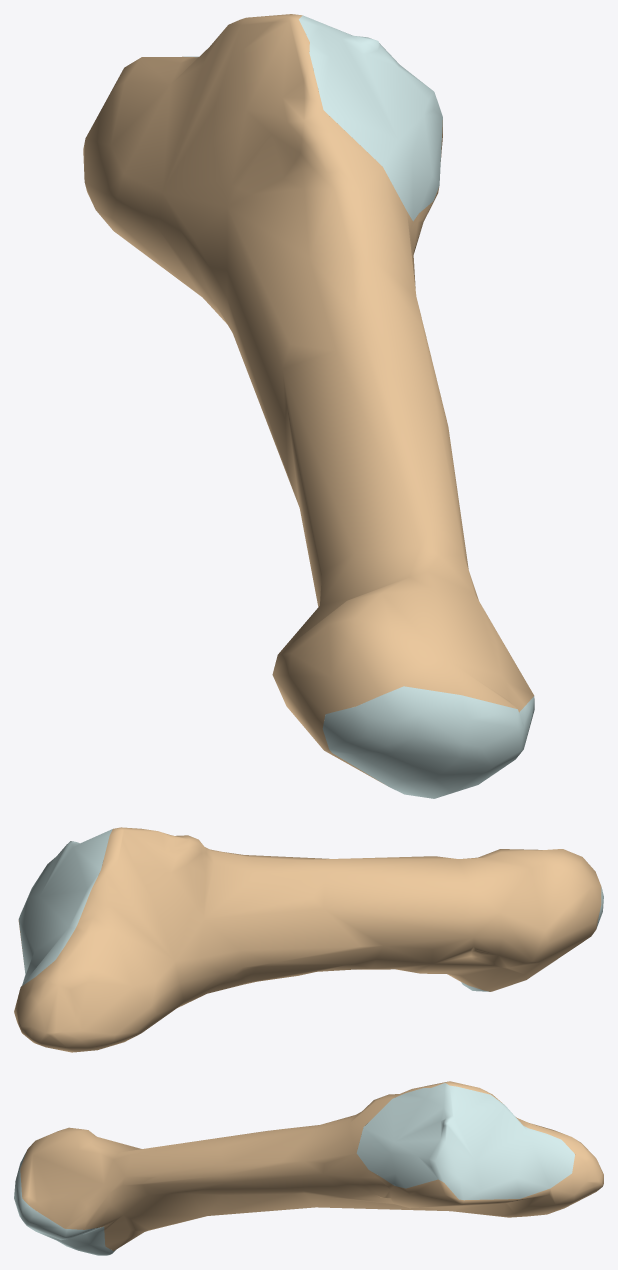
File: 5th_metatarsal_bone.r_Generated_Mesh_From_X3D.920.glb
3 renders of one model, top to bottom at view 1: azimuth 30°, elevation 25°; view 2: azimuth 150°, elevation 25°; view 3: azimuth 270°, elevation 25°, orthographic. The views are drawn at different scales.
Visible parts, largest first — view 1: 5th_metatarsal_bone.r_Generated_Mesh_From_X3D.920; view 2: 5th_metatarsal_bone.r_Generated_Mesh_From_X3D.920; view 3: 5th_metatarsal_bone.r_Generated_Mesh_From_X3D.920.
Part boxes in pixels (x1=…): 5th_metatarsal_bone.r_Generated_Mesh_From_X3D.920: x1=83, y1=14, x2=534, y2=798; 5th_metatarsal_bone.r_Generated_Mesh_From_X3D.920: x1=14, y1=827, x2=603, y2=1052; 5th_metatarsal_bone.r_Generated_Mesh_From_X3D.920: x1=14, y1=1081, x2=603, y2=1255.
Size of the model in its own units: 0.037 by 0.0312 by 0.0737.
